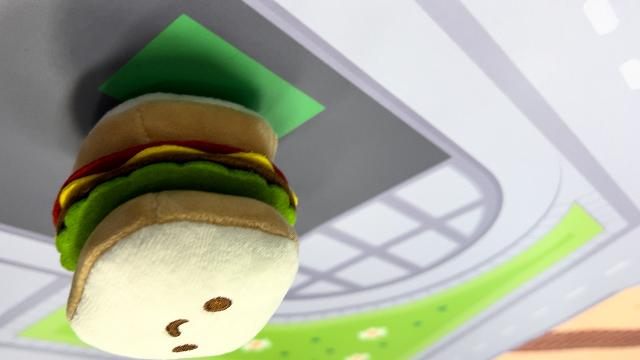sandwich: (49, 90, 304, 356)
